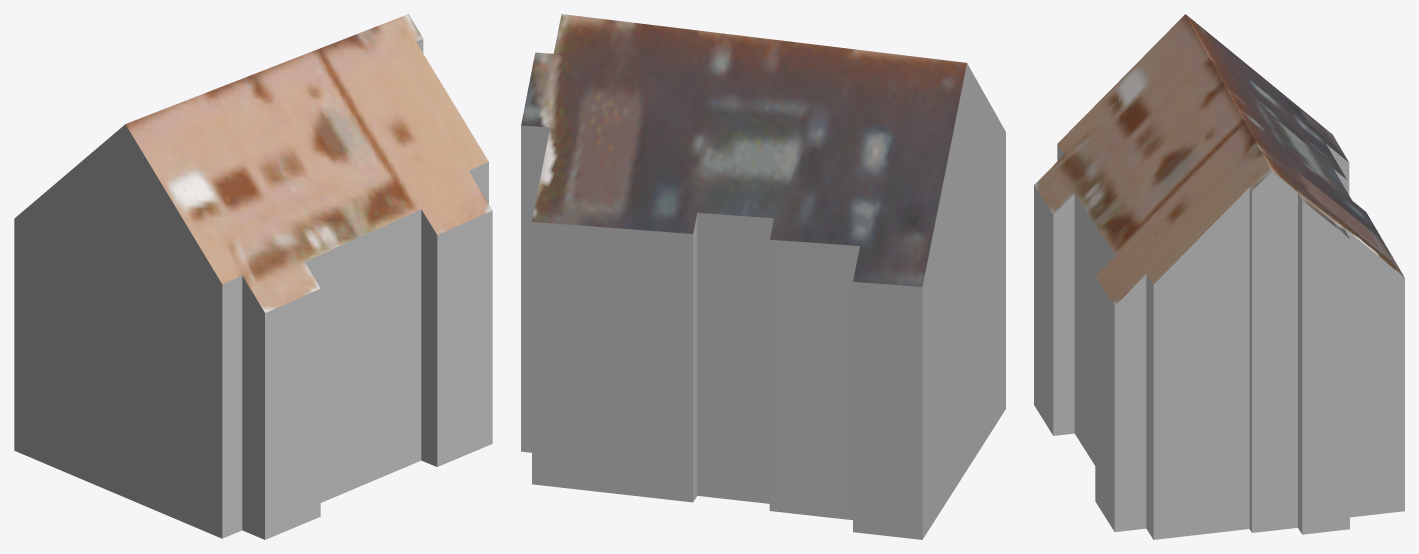
Rendered from DEBW_0010007TvkW.gltf.
3 views of the same model, side by side, from view 1: azimuth 30°, elevation 25°; view 2: azimuth 150°, elevation 25°; view 3: azimuth 270°, elevation 25° (orthographic). The views are drawn at different scales.
Parts seen in each view (by area): view 1: Z_UP; view 2: Z_UP; view 3: Z_UP.
Boxes of the visible parts, box(x1,y1,x2,y2) form: Z_UP: box(14, 14, 492, 539); Z_UP: box(521, 14, 1005, 539); Z_UP: box(1034, 14, 1404, 539).
Size of the model in its own units: 22 by 20.56 by 19.09.
2 materials, 1 textured.
